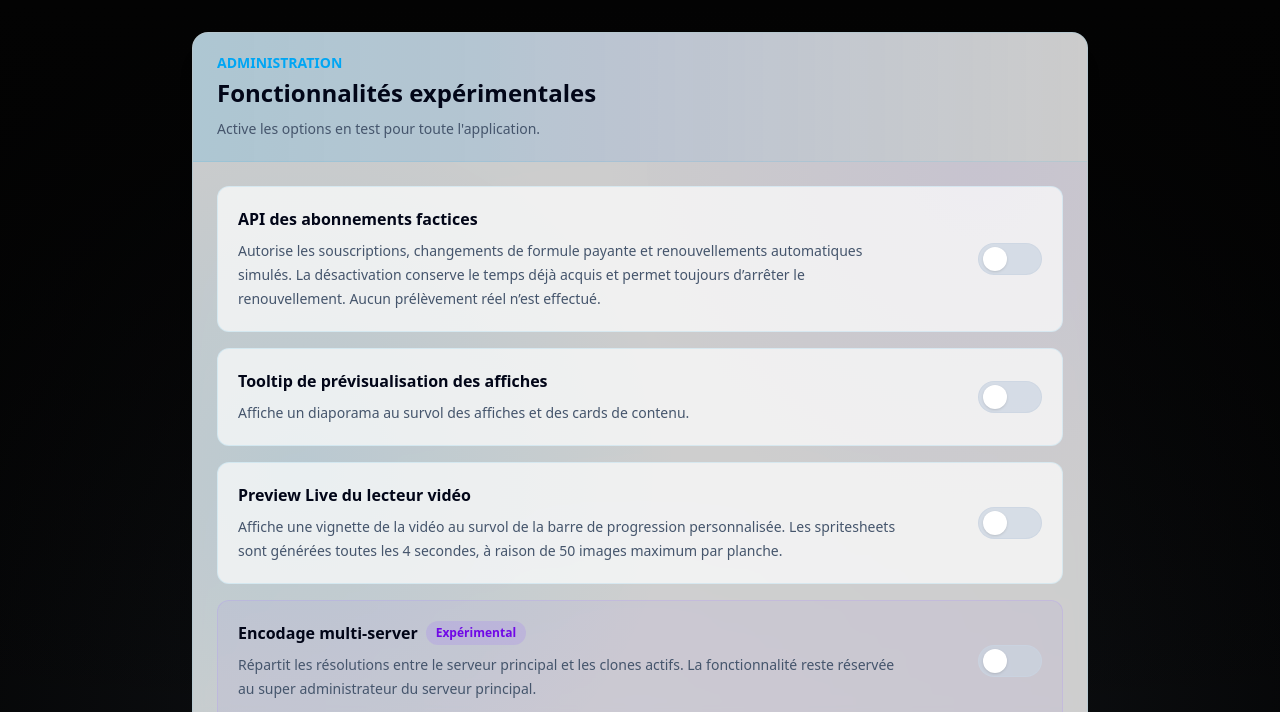
it: AdminExperimentalFeatures - encodage multi-server › affiche le registre et active le toggle via l'API dédiée
The image size is (1280, 712).
Step 1. Click the 3rd button named "Activer l'encodage multi-server" → [1010, 661], box [978, 645, 1042, 677]
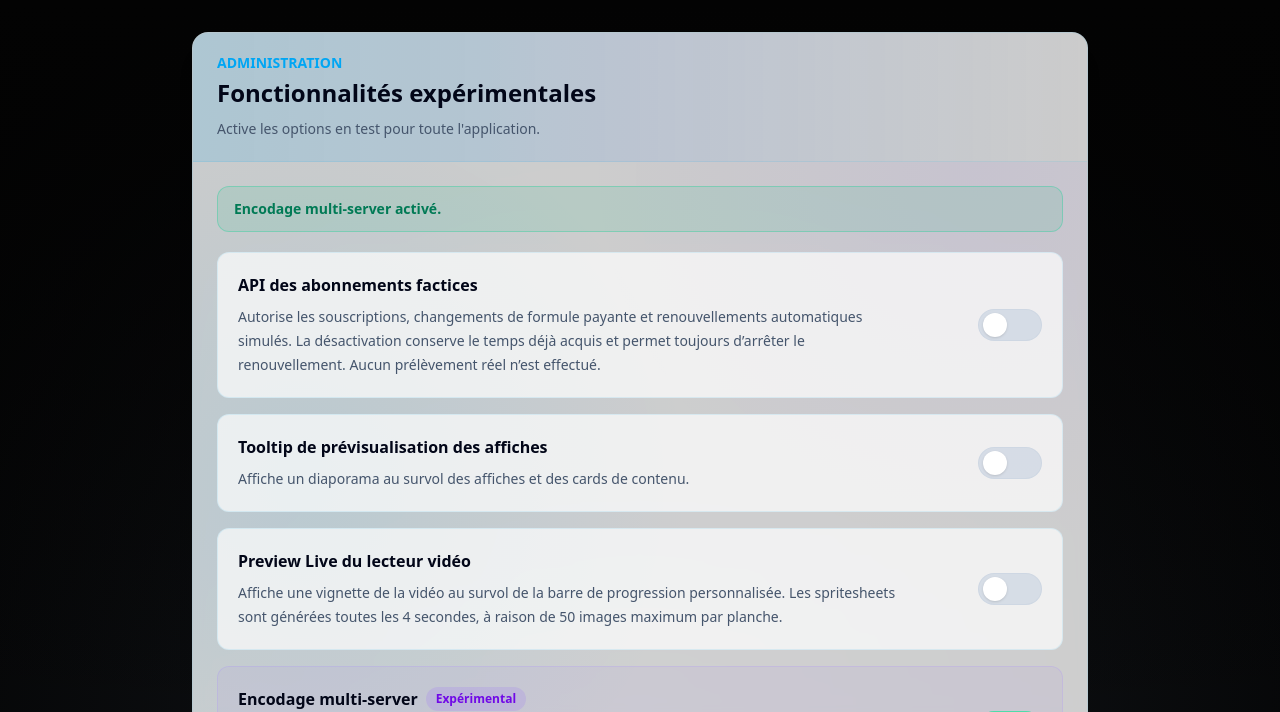
Expected: the text "Encodage multi-server activé." is shown, [217, 186, 1063, 232]
